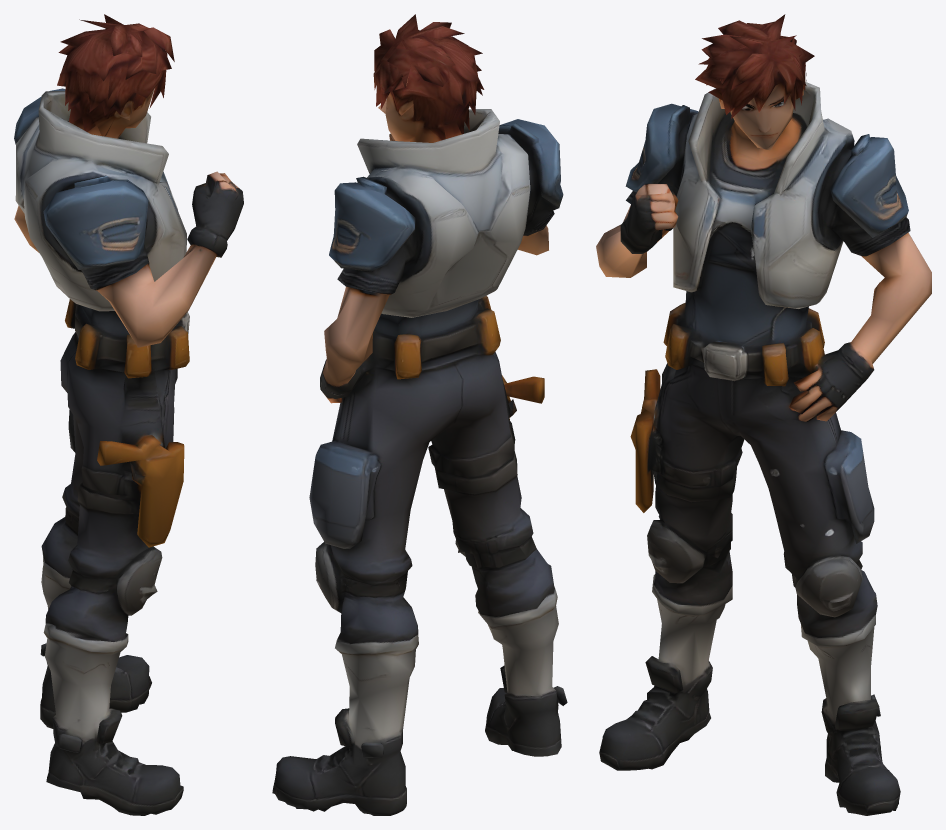
The picture shows the model from 3 angles, left to right: view 1: azimuth 30°, elevation 25°; view 2: azimuth 150°, elevation 25°; view 3: azimuth 270°, elevation 25°; orthographic projection. The views are drawn at different scales.
Visible parts, largest first — view 1: tripo_node_ff840bf7-0059-450f-be5b-d2758d289575; view 2: tripo_node_ff840bf7-0059-450f-be5b-d2758d289575; view 3: tripo_node_ff840bf7-0059-450f-be5b-d2758d289575.
Boxes of the visible parts, box(x1,y1,x2,y2) form: tripo_node_ff840bf7-0059-450f-be5b-d2758d289575: box(14, 14, 243, 815); tripo_node_ff840bf7-0059-450f-be5b-d2758d289575: box(272, 14, 567, 815); tripo_node_ff840bf7-0059-450f-be5b-d2758d289575: box(596, 14, 931, 815).
Size of the model in its own units: 0.2681 by 0.9843 by 0.3992.
1 material, 1 textured.
